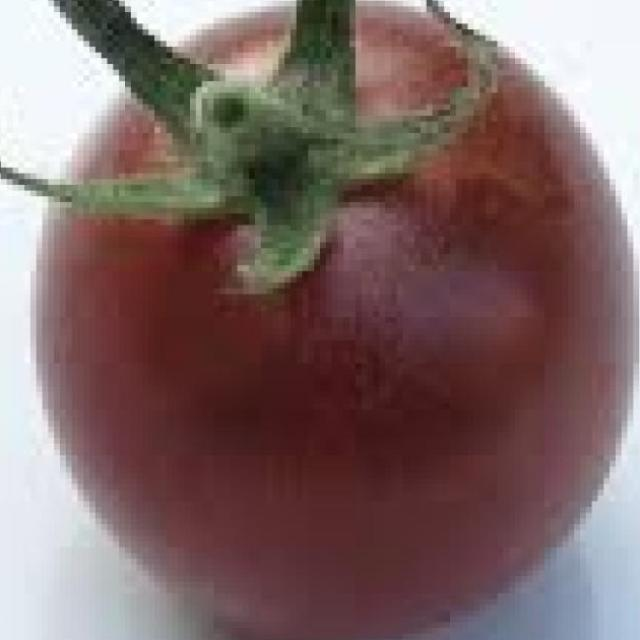Healthy: (25, 15, 634, 640)
